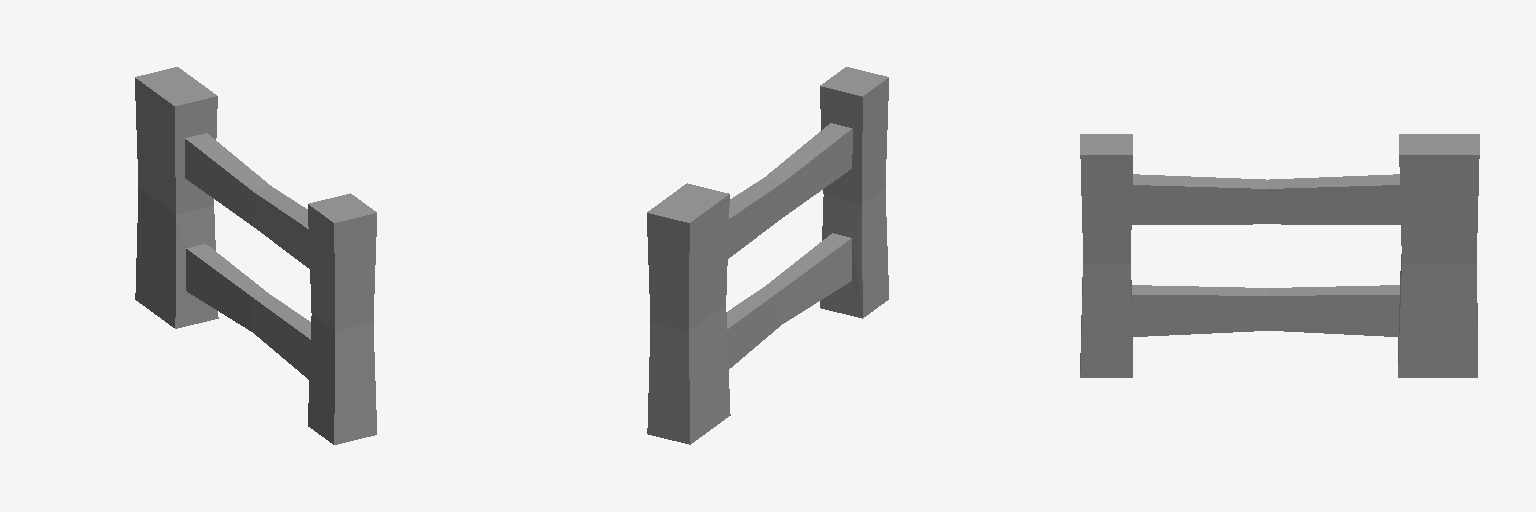
The model's file is fence.obj.
The picture shows the model from 3 angles: view 1: azimuth 30°, elevation 25°; view 2: azimuth 150°, elevation 25°; view 3: azimuth 270°, elevation 25°; orthographic projection.
Parts seen in each view (by area): view 1: Cube.001, Cube.000_Cube.003; view 2: Cube.001, Cube.000_Cube.003; view 3: Cube.001, Cube.000_Cube.003.
Boxes of the visible parts, <box> form: Cube.001: <box>135,67,376,444</box>; Cube.000_Cube.003: <box>150,78,270,331</box>; Cube.001: <box>647,67,888,444</box>; Cube.000_Cube.003: <box>662,178,783,432</box>; Cube.001: <box>1080,134,1479,377</box>; Cube.000_Cube.003: <box>1267,134,1448,377</box>.
Bounding box in the file's own units: 0.2065 × 1.02 × 1.66.